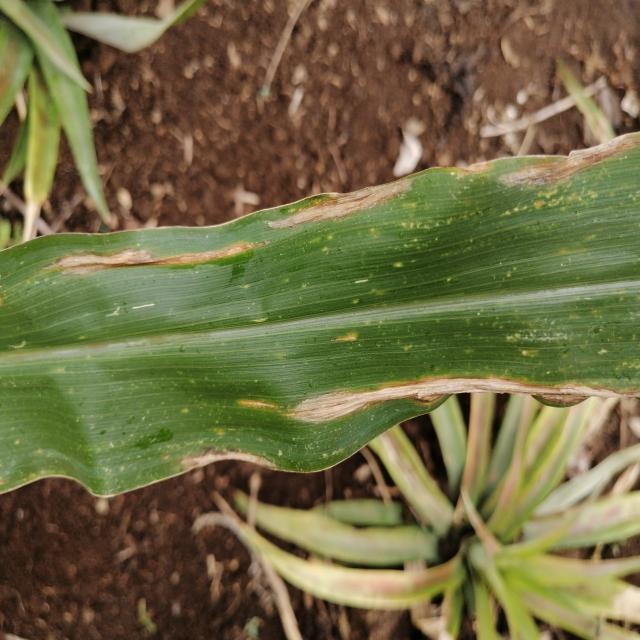Corn_Leaf_Blight: (0, 137, 640, 511)
